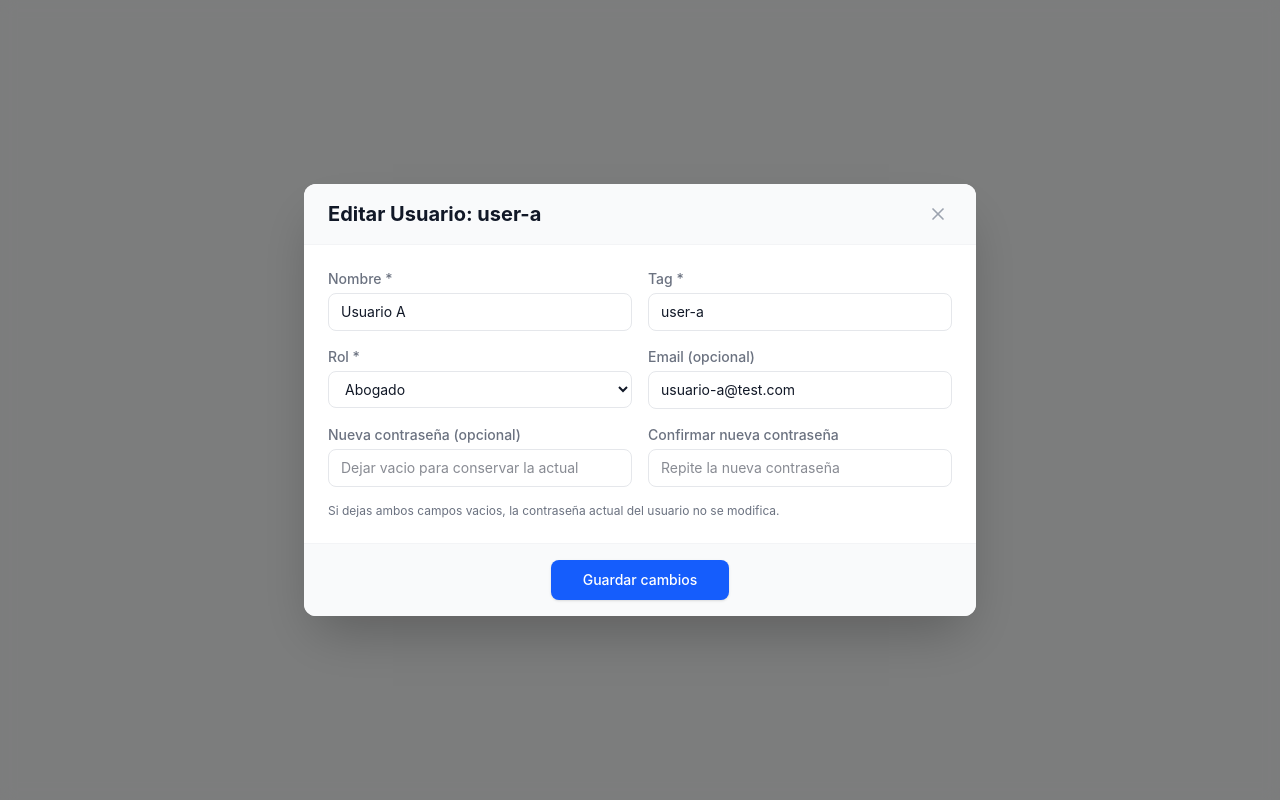
Scenario: AdminEditUserModal › bloquea el submit si la confirmacion no coincide con la nueva contraseña
The width and height of the screenshot is (1280, 800).
Type "nuevaClave9" into the password field labelled "Nueva contraseña (opcional)" at (480, 468), box [328,449,632,487]
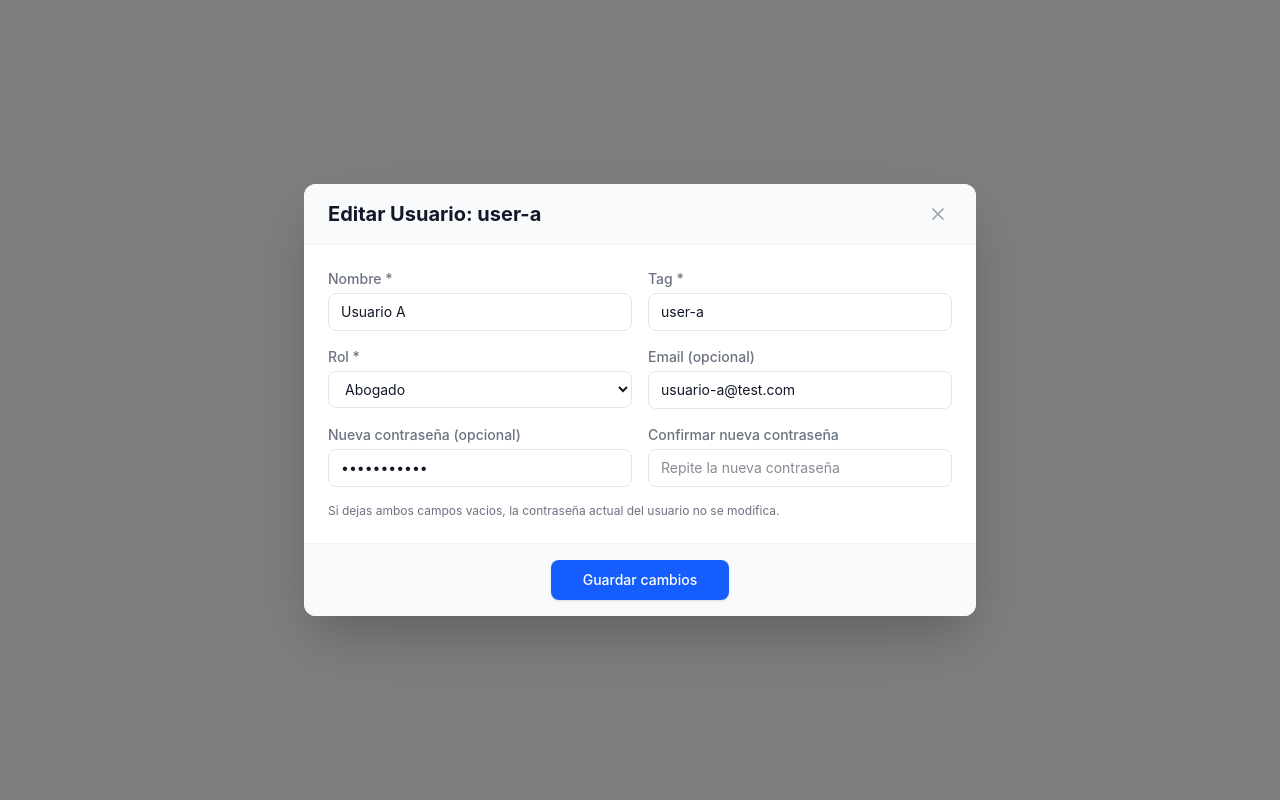
Type "otraClave9" into the password field labelled "Confirmar nueva contraseña" at (800, 468), box [648,449,952,487]
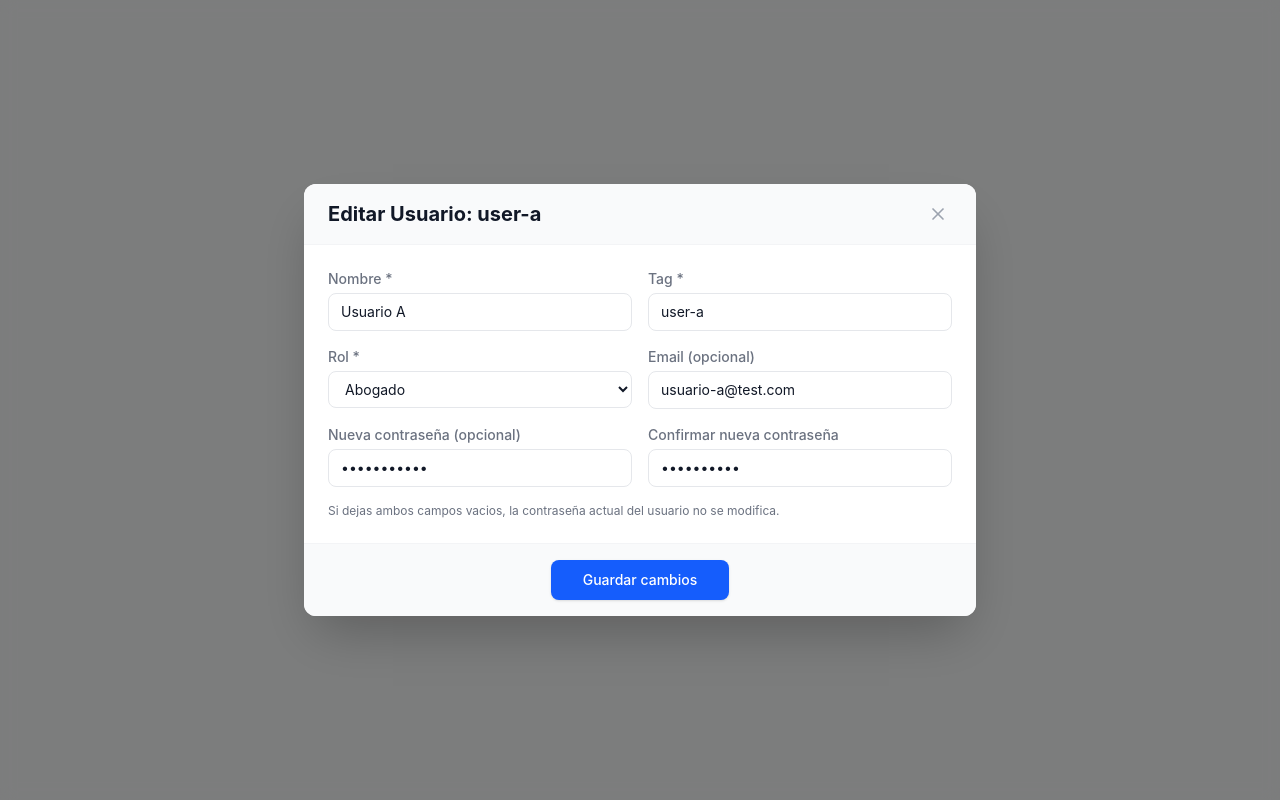
Click the button "Guardar cambios" at (640, 580), box [551,560,729,600]
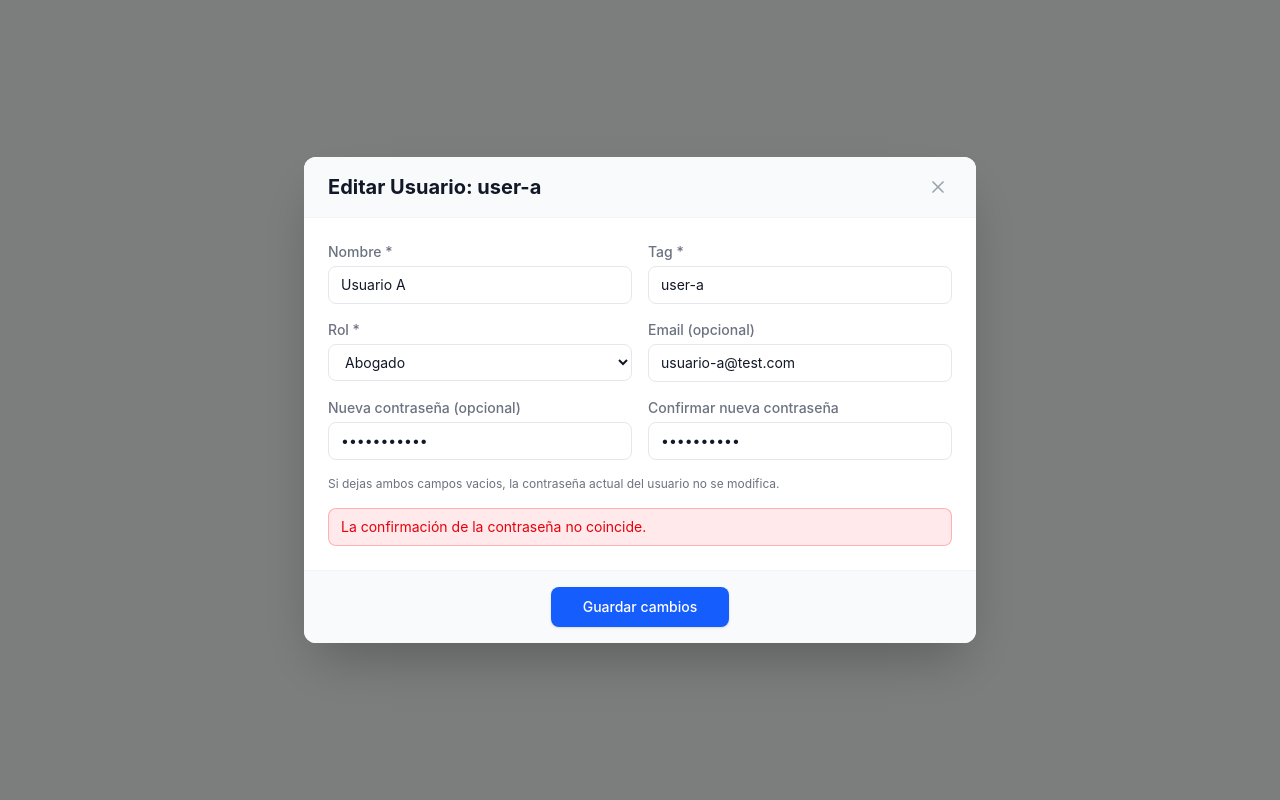
expect the text "La confirmación de la contraseña no coincide." is shown: met, box [328,508,952,546]
